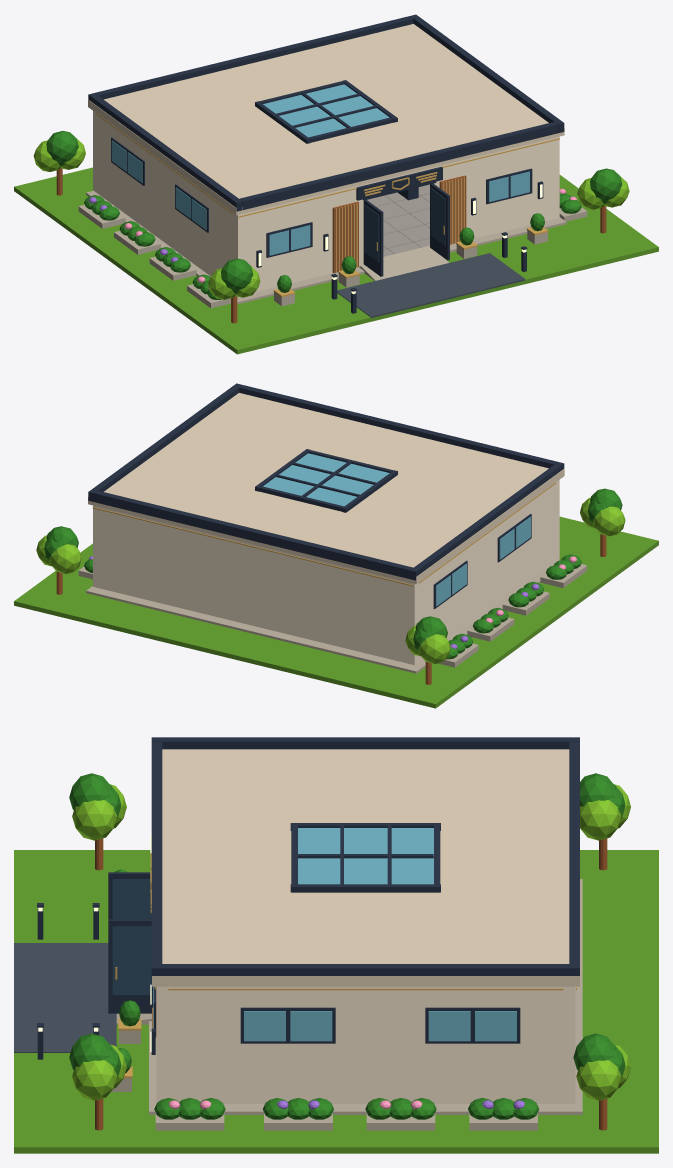
File: armory.glb
The picture shows the model from 3 angles, top to bottom: view 1: azimuth 30°, elevation 25°; view 2: azimuth 150°, elevation 25°; view 3: azimuth 270°, elevation 25°; orthographic projection. The views are drawn at different scales.
Parts seen in each view (by area): view 1: Roof_cream, Structure_ivory, Ground_grass, Roof_charcoal, Ground_asphalt, Landscape_leaf, Roof_glass, Structure_glass, Structure_floor, Landscape_stone, Structure_charcoal, Landscape_leaf2 (+9 smaller); view 2: Roof_cream, Structure_ivory, Ground_grass, Roof_charcoal, Landscape_leaf, Ground_stone, Roof_glass, Landscape_leaf2, Landscape_stone, Structure_glass, Structure_gold, Structure_charcoal; view 3: Roof_cream, Ground_grass, Structure_ivory, Roof_charcoal, Landscape_leaf, Ground_asphalt, Roof_glass, Landscape_leaf2, Structure_glass, Doors_Open_navy, Landscape_stone, Ground_stone (+5 smaller).
Boxes of the visible parts, bbox=[...] form: Roof_cream: bbox=[88, 24, 564, 215]; Structure_ivory: bbox=[93, 111, 559, 291]; Ground_grass: bbox=[14, 167, 658, 354]; Roof_charcoal: bbox=[88, 14, 564, 211]; Ground_asphalt: bbox=[337, 253, 525, 317]; Landscape_leaf: bbox=[46, 131, 622, 299]; Roof_glass: bbox=[263, 84, 389, 137]; Structure_glass: bbox=[111, 140, 529, 255]; Structure_floor: bbox=[367, 184, 429, 256]; Landscape_stone: bbox=[78, 204, 587, 308]; Structure_charcoal: bbox=[111, 137, 532, 257]; Landscape_leaf2: bbox=[33, 139, 629, 299]; Roof_cream: bbox=[88, 393, 564, 584]; Structure_ivory: bbox=[93, 480, 559, 664]; Ground_grass: bbox=[14, 516, 658, 708]; Roof_charcoal: bbox=[88, 383, 564, 580]; Landscape_leaf: bbox=[44, 488, 622, 659]; Ground_stone: bbox=[86, 560, 560, 673]; Roof_glass: bbox=[263, 453, 389, 506]; Landscape_leaf2: bbox=[36, 497, 625, 663]; Landscape_stone: bbox=[78, 564, 587, 667]; Structure_glass: bbox=[436, 517, 530, 606]; Structure_gold: bbox=[92, 482, 556, 586]; Structure_charcoal: bbox=[433, 514, 531, 609]; Roof_cream: bbox=[152, 749, 579, 986]; Ground_grass: bbox=[14, 850, 658, 1153]; Structure_ivory: bbox=[156, 986, 575, 1103]; Roof_charcoal: bbox=[151, 737, 579, 980]; Landscape_leaf: bbox=[69, 773, 625, 1119]; Ground_asphalt: bbox=[14, 943, 116, 1052]; Roof_glass: bbox=[298, 828, 433, 884]; Landscape_leaf2: bbox=[72, 784, 630, 1100]; Structure_glass: bbox=[153, 986, 516, 1041]; Doors_Open_navy: bbox=[112, 879, 151, 994]; Landscape_stone: bbox=[111, 1030, 537, 1130]; Ground_stone: bbox=[149, 879, 582, 1114].
Bounding box in the file's own units: 24 × 5.72 × 22.
